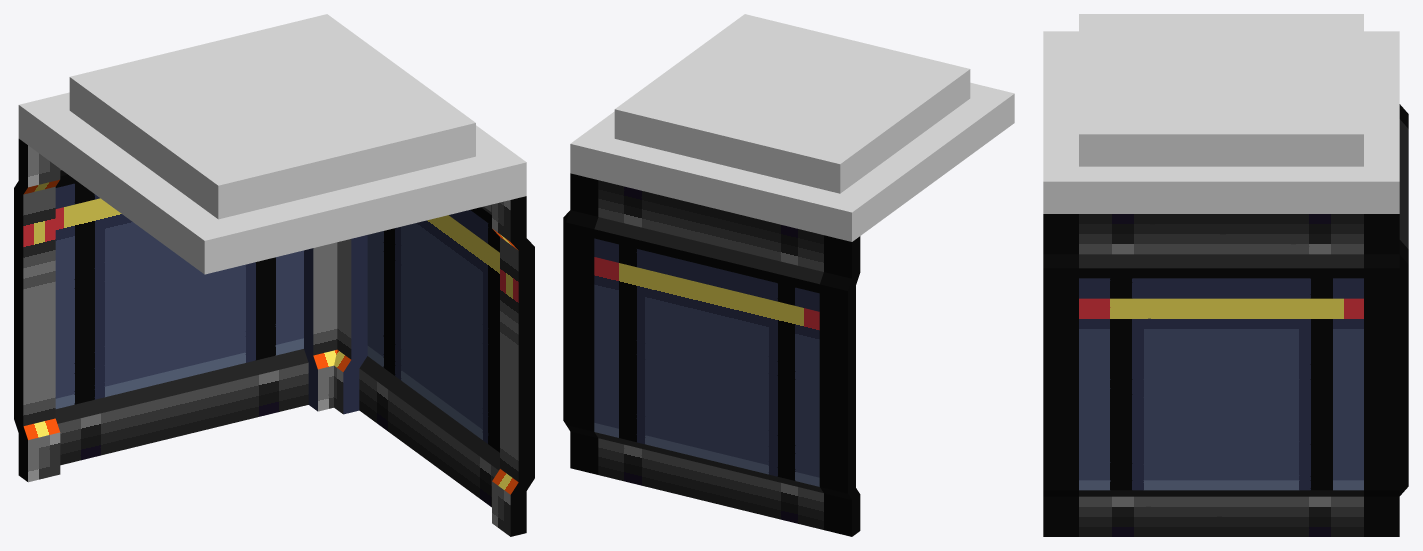
3 renders of one model, left to right at view 1: azimuth 30°, elevation 25°; view 2: azimuth 150°, elevation 25°; view 3: azimuth 270°, elevation 25°, orthographic. The views are drawn at different scales.
Visible parts, largest first — view 1: Roof, N, E; view 2: N, Roof, E; view 3: E, Roof, N.
Boxes of the visible parts, bbox=[...] form: Roof: bbox=[18, 14, 526, 274]; N: bbox=[14, 139, 337, 482]; E: bbox=[334, 196, 534, 536]; N: bbox=[566, 174, 860, 536]; Roof: bbox=[570, 14, 1014, 241]; E: bbox=[563, 173, 584, 471]; E: bbox=[1043, 214, 1399, 536]; Roof: bbox=[1043, 14, 1399, 213]; N: bbox=[1382, 104, 1408, 536].
Size of the model in its own units: 2.05 by 2.4 by 2.05.
Materials: 2 (1 with a texture image).
